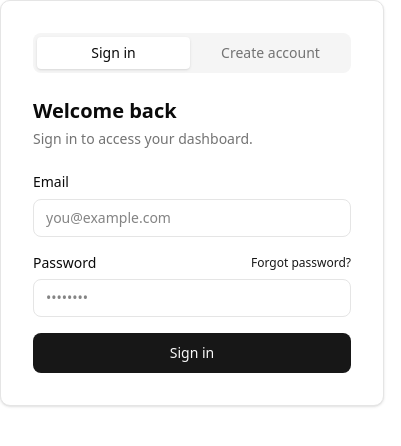
Test: LoginForm › switches to sign-up mode
The width and height of the screenshot is (401, 446).
Click the button "Create account".
click(270, 53)  # box top-left (194, 37), bottom-right (347, 69)
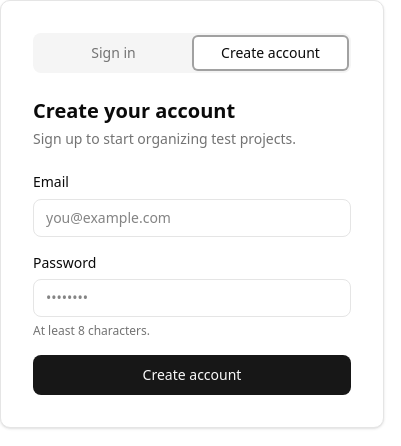
Expected: the heading "Create your account" is shown, top-left (33, 97), bottom-right (235, 124)
Expected: the button "Create account" below "At least 8 characters." is shown, top-left (33, 355), bottom-right (351, 395)
